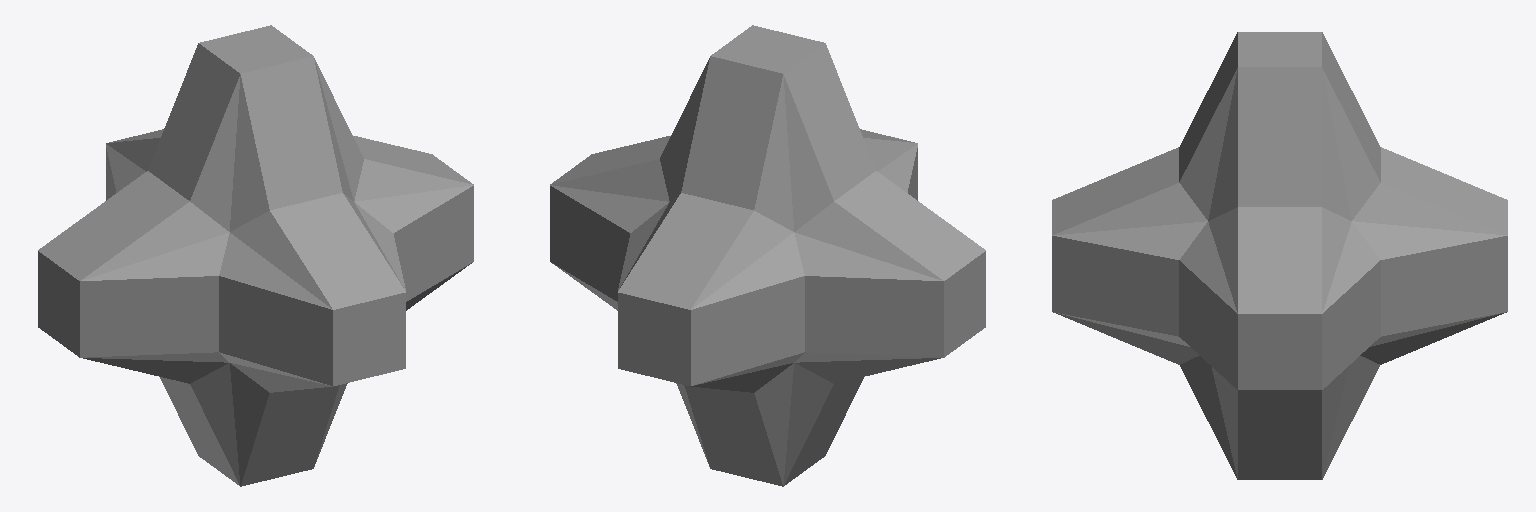
The model's file is BeveledCube.obj.
3 views of the same model, side by side, from view 1: azimuth 30°, elevation 25°; view 2: azimuth 150°, elevation 25°; view 3: azimuth 270°, elevation 25° (orthographic).
Parts seen in each view (by area): view 1: Cube; view 2: Cube; view 3: Cube.
Part boxes in pixels (x1,y1,x2,y2): Cube: (38, 25, 473, 486); Cube: (550, 25, 985, 486); Cube: (1052, 32, 1507, 479).
Size of the model in its own units: 1.5 by 1.5 by 1.5.